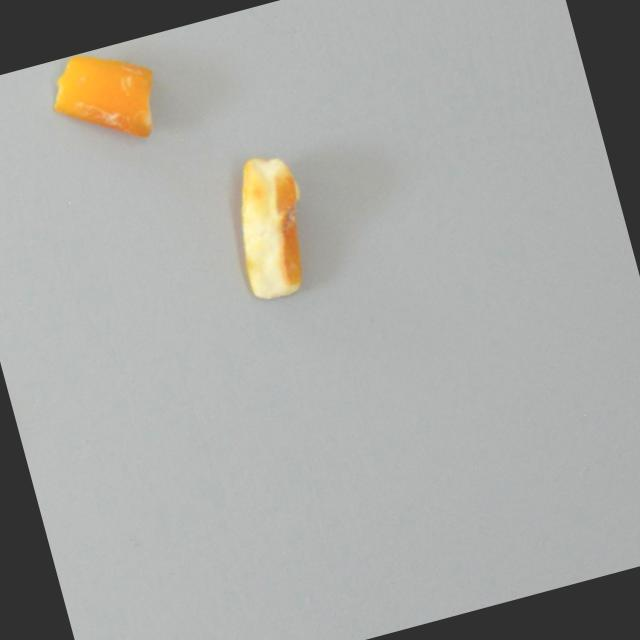dañado: (212, 142, 334, 310), (36, 35, 174, 164)
